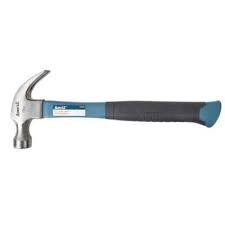hammer: (10, 68, 222, 150)
